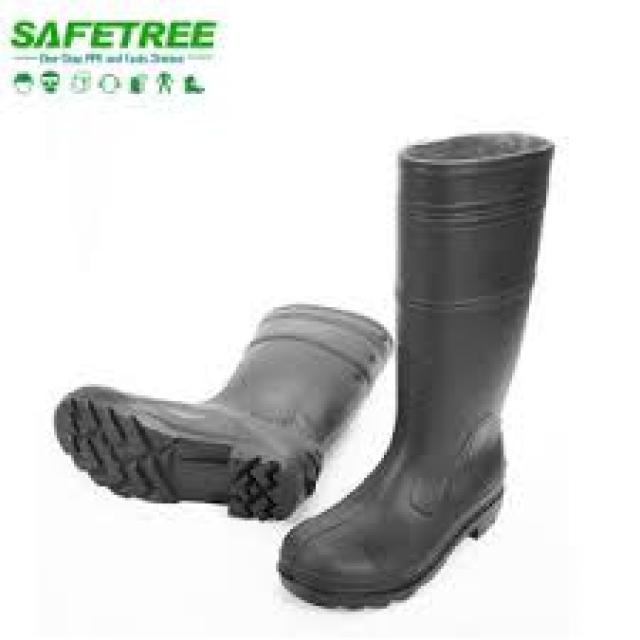shoes: (279, 136, 554, 607), (56, 305, 390, 518)
